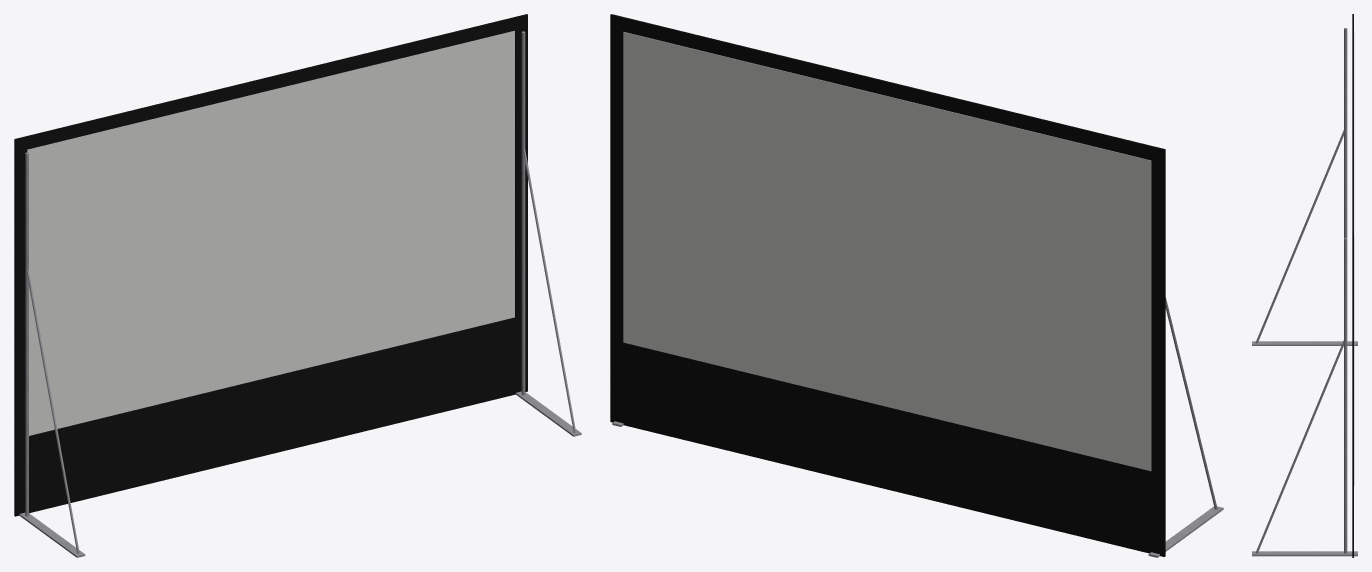
Rendered from screen_fastfold_16x9_6m.gltf.
The picture shows the model from 3 angles, left to right: view 1: azimuth 30°, elevation 25°; view 2: azimuth 150°, elevation 25°; view 3: azimuth 270°, elevation 25°; orthographic projection. The views are drawn at different scales.
Parts seen in each view (by area): view 1: screen_fastfold_16x9_6m; view 2: screen_fastfold_16x9_6m; view 3: screen_fastfold_16x9_6m.
Boxes of the visible parts, left/top/right/bottom form: screen_fastfold_16x9_6m: left=14, top=14, right=581, bottom=557; screen_fastfold_16x9_6m: left=610, top=14, right=1223, bottom=557; screen_fastfold_16x9_6m: left=1252, top=14, right=1357, bottom=557.
Bounding box in the file's own units: 6.3 × 4.43 × 1.3.
Materials: 3 (2 with a texture image).
